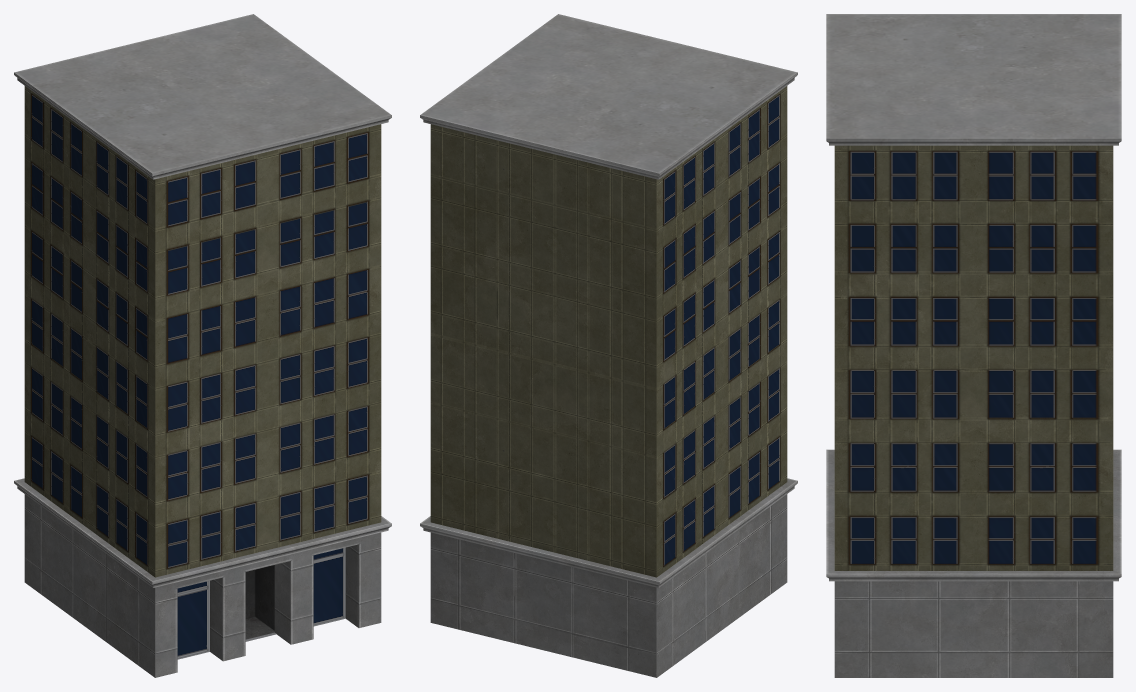
The model's file is sb_obj_ModernCity001_buil_a1.fbx.
3 views of the same model, side by side, from view 1: azimuth 30°, elevation 25°; view 2: azimuth 150°, elevation 25°; view 3: azimuth 270°, elevation 25° (orthographic). The views are drawn at different scales.
Parts seen in each view (by area): view 1: sb_obj_ModernCity001_buil_a1; view 2: sb_obj_ModernCity001_buil_a1; view 3: sb_obj_ModernCity001_buil_a1.
Part boxes in pixels (x1,y1,x2,y2): sb_obj_ModernCity001_buil_a1: (14, 14, 391, 677); sb_obj_ModernCity001_buil_a1: (420, 14, 797, 677); sb_obj_ModernCity001_buil_a1: (826, 14, 1121, 677).
Bounding box in the file's own units: 4.93 × 10 × 4.93.
